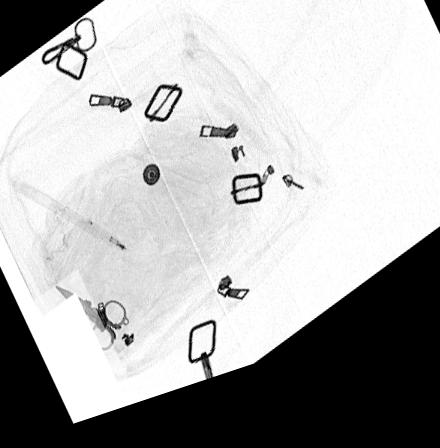Scissors: (54, 289, 124, 359)
